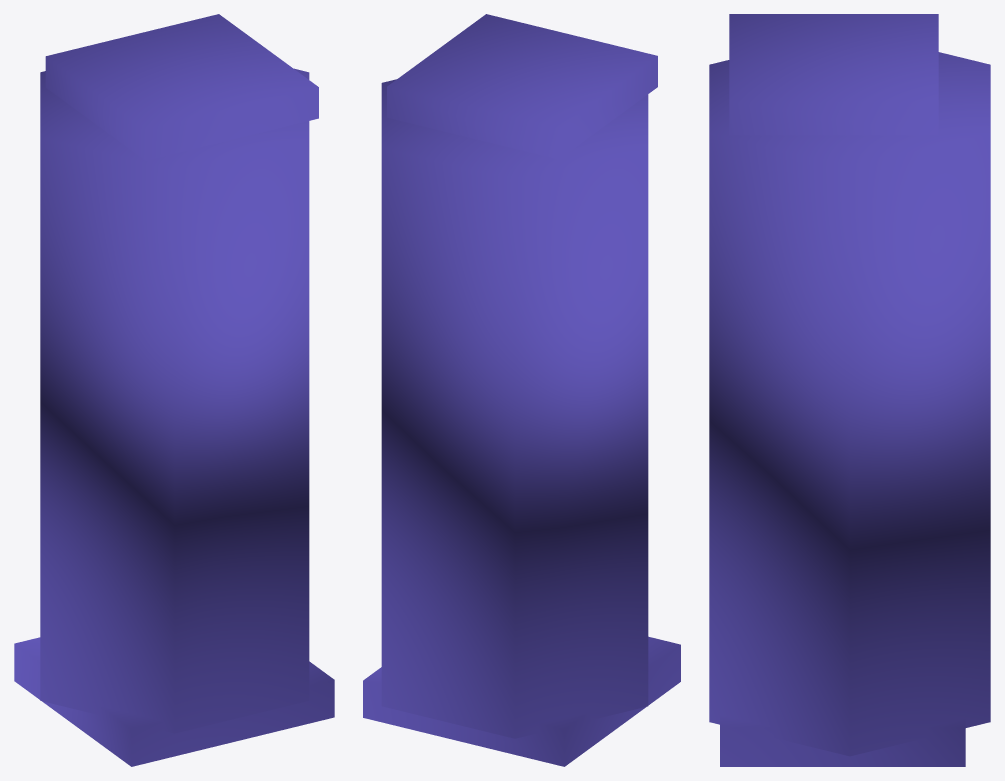
The model's file is ps2_jrpg_stone_pillar.obj.
The picture shows the model from 3 angles, left to right: view 1: azimuth 30°, elevation 25°; view 2: azimuth 150°, elevation 25°; view 3: azimuth 270°, elevation 25°; orthographic projection. The views are drawn at different scales.
Size of the model in its own units: 0.9 by 2.01 by 0.7794.
